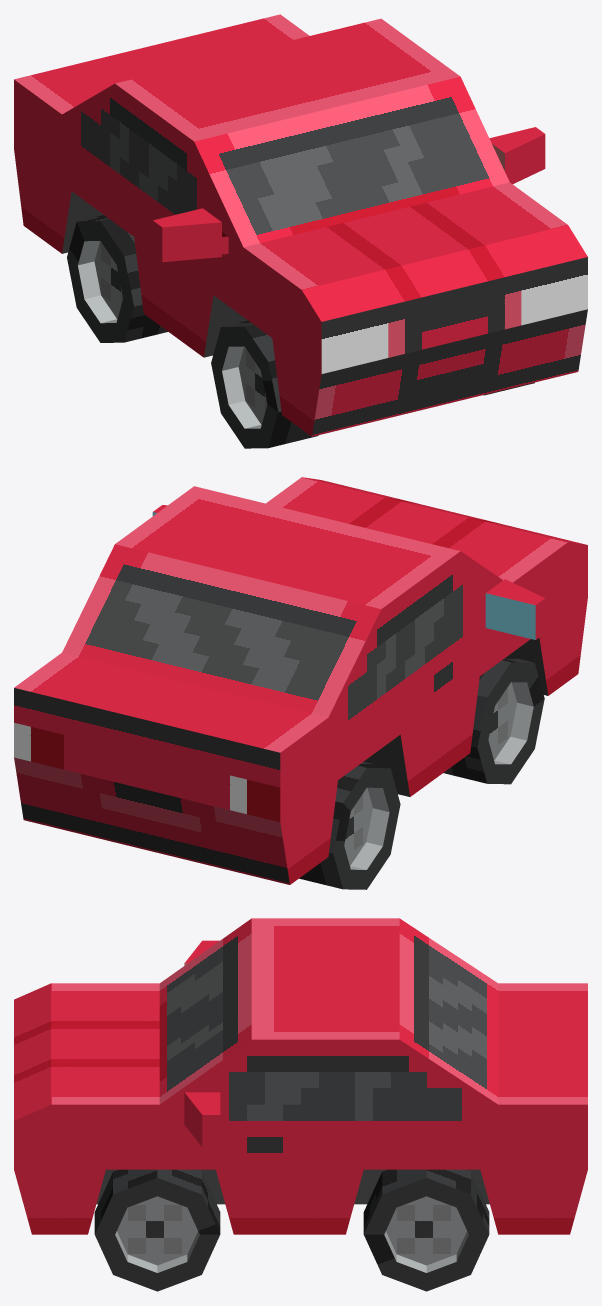
The model's file is car.glb.
The picture shows the model from 3 angles, top to bottom: view 1: azimuth 30°, elevation 25°; view 2: azimuth 150°, elevation 25°; view 3: azimuth 270°, elevation 25°; orthographic projection. The views are drawn at different scales.
Parts seen in each view (by area): view 1: cube_4, cylinder_8, cylinder_9, mirror_right_1, mirror_left_2; view 2: cube_4, cylinder_9, cylinder_8, mirror_right_1; view 3: cube_4, cylinder_7, cylinder_6, mirror_left_2.
Boxes of the visible parts, x1=… form: cube_4: x1=14, y1=14, x2=587, y2=436; cylinder_8: x1=67, y1=215, x2=167, y2=342; cylinder_9: x1=211, y1=320, x2=318, y2=448; mirror_right_1: x1=152, y1=208, x2=221, y2=262; mirror_left_2: x1=489, y1=127, x2=545, y2=184; cube_4: x1=14, y1=477, x2=587, y2=884; cylinder_9: x1=443, y1=656, x2=544, y2=784; cylinder_8: x1=299, y1=761, x2=400, y2=889; mirror_right_1: x1=485, y1=579, x2=545, y2=639; cube_4: x1=14, y1=918, x2=587, y2=1234; cylinder_7: x1=363, y1=1169, x2=489, y2=1291; cylinder_6: x1=94, y1=1169, x2=220, y2=1291; mirror_left_2: x1=184, y1=1092, x2=220, y2=1147.
Bounding box in the file's own units: 1.44 × 0.9688 × 2.
3 materials, 3 textured.
